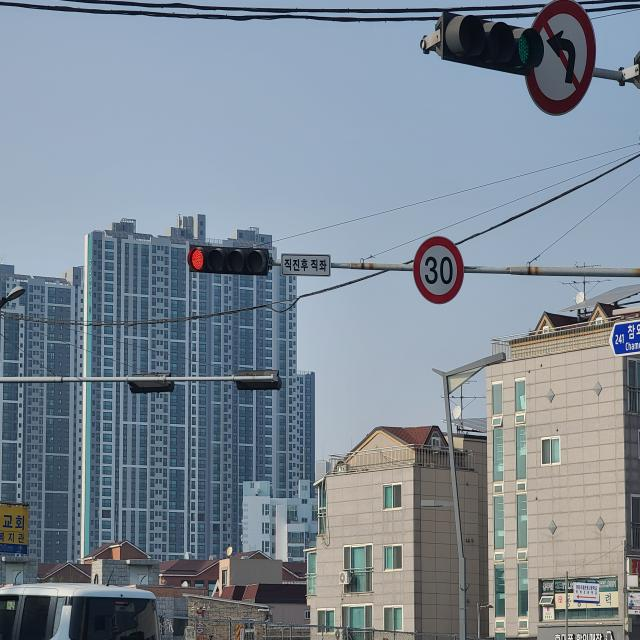Green Light: (512, 19, 542, 74)
Red Light: (192, 246, 204, 271)
